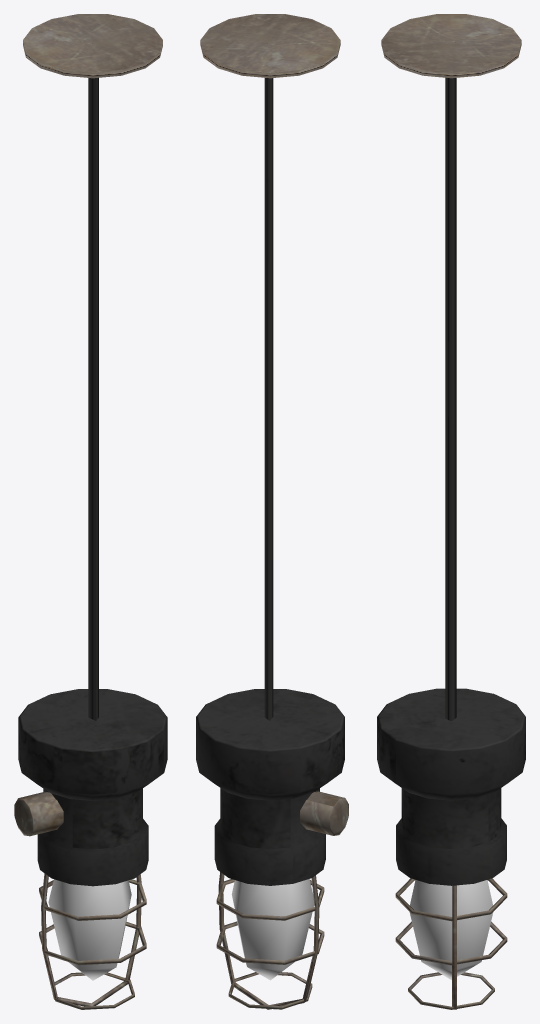
The model's file is LampDPlate.fbx.
The picture shows the model from 3 angles, left to right: view 1: azimuth 30°, elevation 25°; view 2: azimuth 150°, elevation 25°; view 3: azimuth 270°, elevation 25°; orthographic projection.
Parts seen in each view (by area): view 1: LampD, LampDPlate, LampDWire; view 2: LampD, LampDPlate, LampDWire; view 3: LampD, LampDWire, LampDPlate.
Boxes of the visible parts, x1,y1,x2,y2 form: LampD: (14,689,167,1009); LampDPlate: (23,14,162,78); LampDWire: (88,78,98,720); LampD: (196,689,348,1009); LampDPlate: (200,14,340,78); LampDWire: (264,78,273,720); LampD: (377,688,525,1009); LampDWire: (445,77,456,721); LampDPlate: (381,14,521,78).
Size of the model in its own units: 22.05 by 149 by 20.83.
